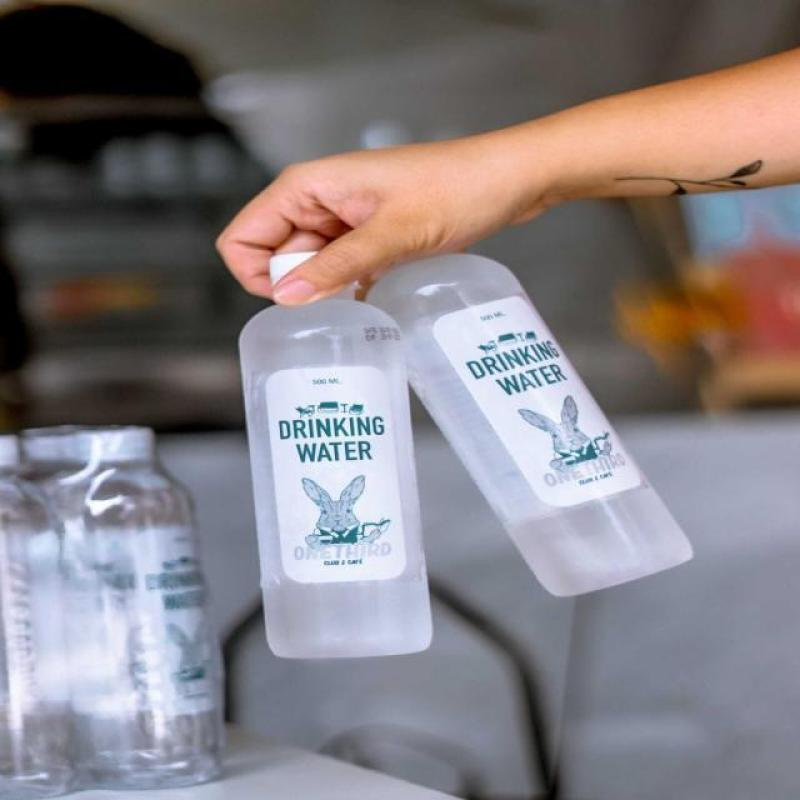botella: (364, 249, 694, 598), (238, 252, 434, 660), (60, 424, 224, 792)
